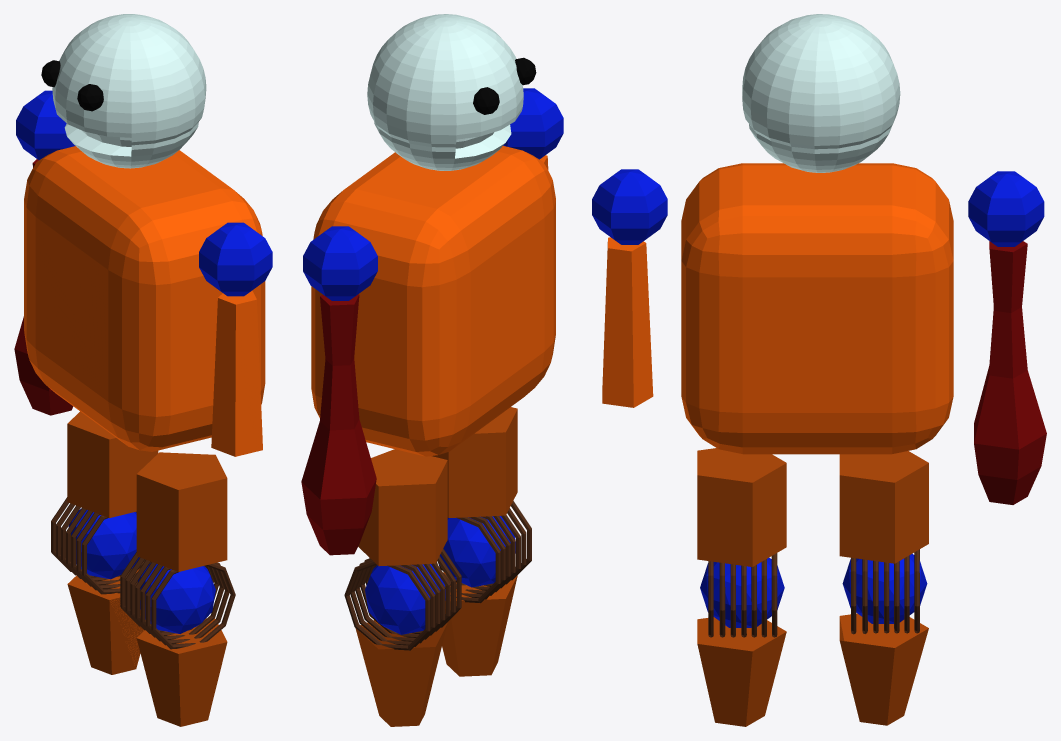
Rendered from fighterUnit.fbx.
3 views of the same model, side by side, from view 1: azimuth 30°, elevation 25°; view 2: azimuth 150°, elevation 25°; view 3: azimuth 270°, elevation 25° (orthographic). The views are drawn at different scales.
Parts seen in each view (by area): view 1: Cube, Sphere.002, Cylinder.003, Cylinder.002, Cylinder.001, Sphere.001, Icosphere.002, Icosphere.003, Sphere, Cylinder, Torus.006, Torus.005 (+6 smaller); view 2: Cube, Sphere.002, Cylinder.002, Cylinder, Cylinder.003, Sphere, Icosphere.003, Icosphere.002, Sphere.001, Torus.007, Torus.008, Torus.009 (+8 smaller); view 3: Cube, Sphere.002, Cylinder.003, Cylinder.002, Cylinder, Cylinder.001, Sphere, Sphere.001, Icosphere.003, Icosphere.002.
Boxes of the visible parts, x1,y1,x2,y2 form: Cube: (24,146,265,451); Sphere.002: (52,14,206,168); Cylinder.003: (136,452,227,726); Cylinder.002: (67,411,158,674); Cylinder.001: (211,290,262,456); Sphere.001: (199,222,272,296); Icosphere.002: (138,563,215,633); Icosphere.003: (68,508,139,579); Sphere: (16,90,75,160); Cylinder: (14,159,73,415); Torus.006: (151,563,235,649); Torus.005: (145,562,229,645); Cube: (311,146,555,456); Sphere.002: (367,14,523,170); Cylinder.002: (355,449,447,726); Cylinder: (301,294,376,555); Cylinder.003: (432,407,517,676); Sphere: (303,226,377,300); Icosphere.003: (365,564,445,634); Icosphere.002: (439,516,515,587); Sphere.001: (503,88,563,159); Torus.007: (344,561,430,650); Torus.008: (350,559,435,646); Torus.009: (355,558,440,643); Cube: (681,163,953,454); Sphere.002: (742,14,900,172); Cylinder.003: (697,448,786,726); Cylinder.002: (839,451,928,725); Cylinder: (974,241,1046,504); Cylinder.001: (602,237,653,407); Sphere: (968,171,1044,246); Sphere.001: (592,169,667,244); Icosphere.003: (842,553,927,623); Icosphere.002: (700,557,784,627).
Bounding box in the file's own units: 104 × 430 × 258.
